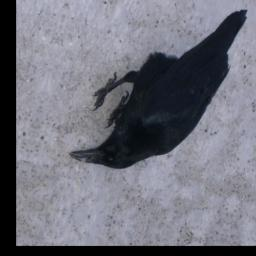Crow: (68, 0, 249, 188)
